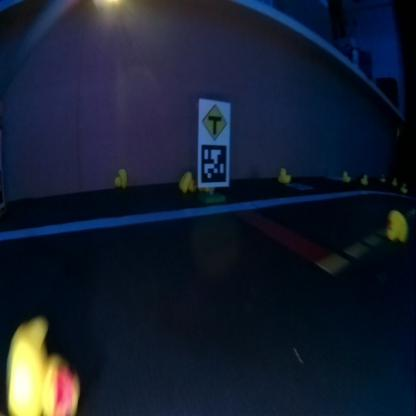Duckie: (4, 316, 79, 414), (387, 211, 408, 241), (179, 170, 194, 191), (113, 168, 126, 187), (278, 167, 288, 181), (342, 172, 350, 180), (400, 184, 407, 192), (361, 175, 367, 183), (380, 174, 386, 182), (392, 177, 396, 184)
Intersection sign: (201, 102, 227, 140)
QR code: (201, 144, 226, 181)
